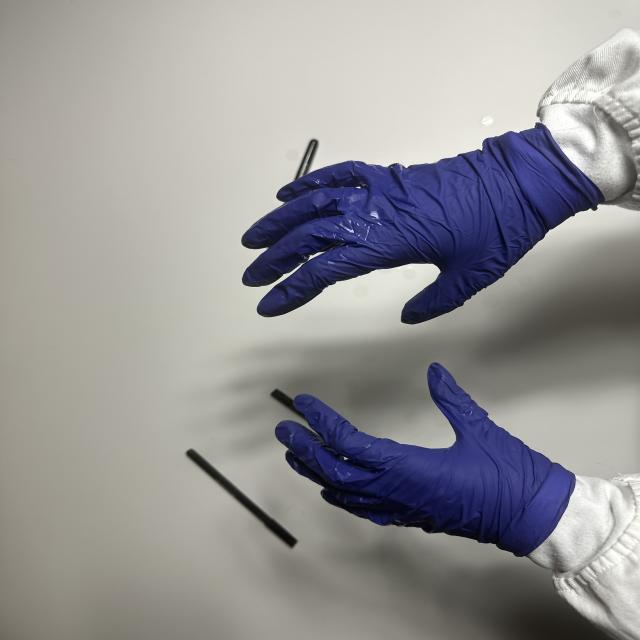gloves_contaminated: (242, 124, 604, 324), (275, 363, 576, 556)
